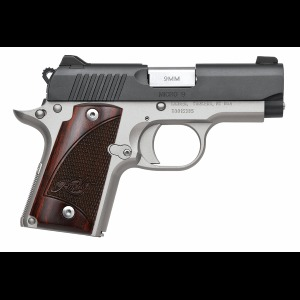gun: (11, 52, 288, 233)
